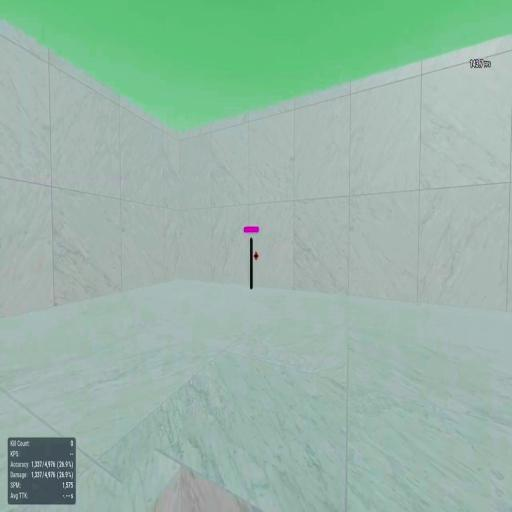Crosshair: (254, 252, 258, 260)
Target: (250, 238, 253, 289)
